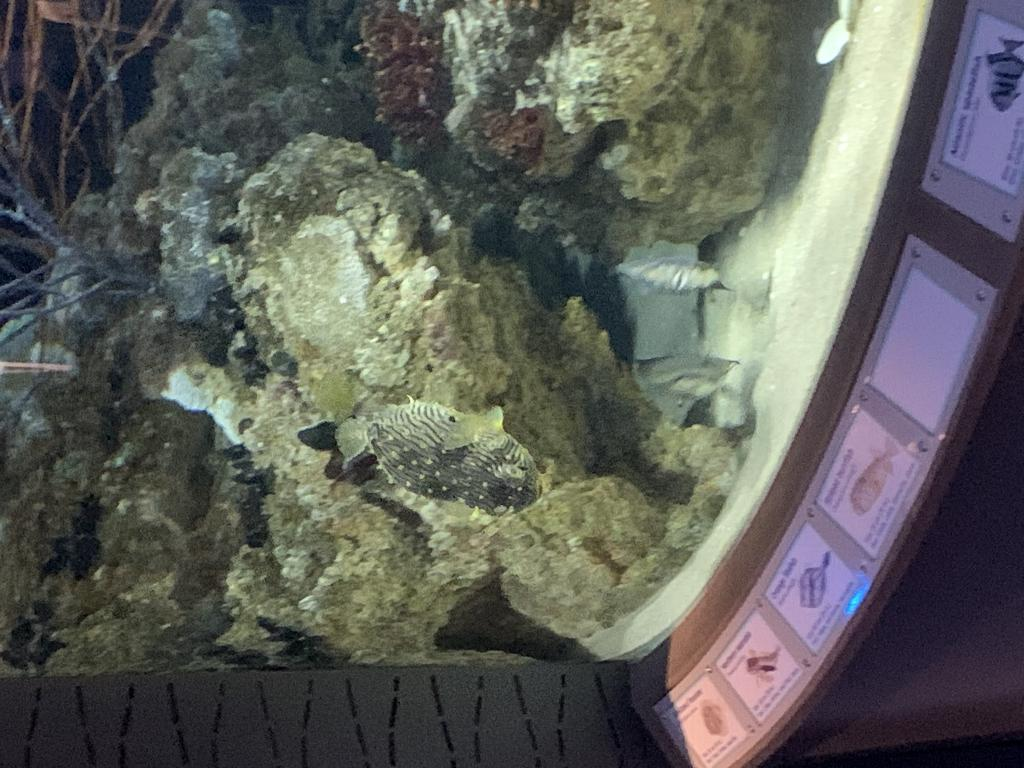fish: (336, 397, 544, 517), (631, 350, 741, 424), (610, 254, 736, 294)
